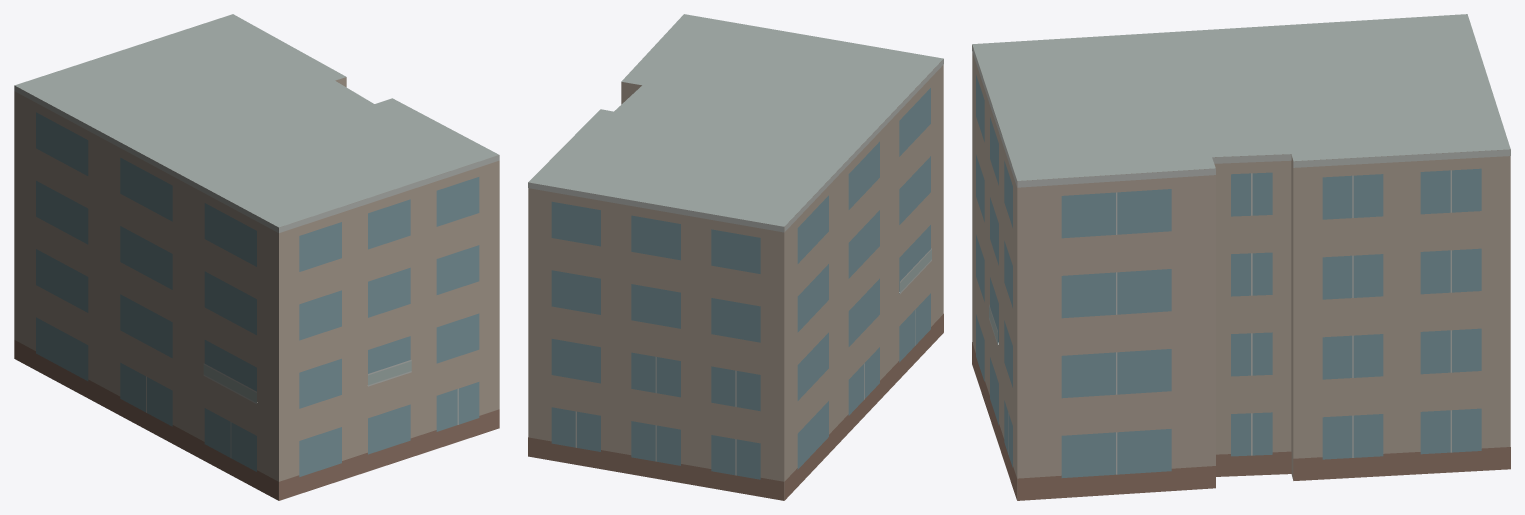
Rendered from survey-upis-32575237.glb.
3 renders of one model, left to right at view 1: azimuth 30°, elevation 25°; view 2: azimuth 150°, elevation 25°; view 3: azimuth 270°, elevation 25°, orthographic. The views are drawn at different scales.
Visible parts, largest first — view 1: survey-upis-32575237.tmp; view 2: survey-upis-32575237.tmp; view 3: survey-upis-32575237.tmp.
Part boxes in pixels (x1=…): survey-upis-32575237.tmp: x1=14, y1=14, x2=499, y2=500; survey-upis-32575237.tmp: x1=528, y1=14, x2=943, y2=500; survey-upis-32575237.tmp: x1=972, y1=14, x2=1510, y2=500.
Bounding box in the file's own units: 13.11 × 11.7 × 17.87.
